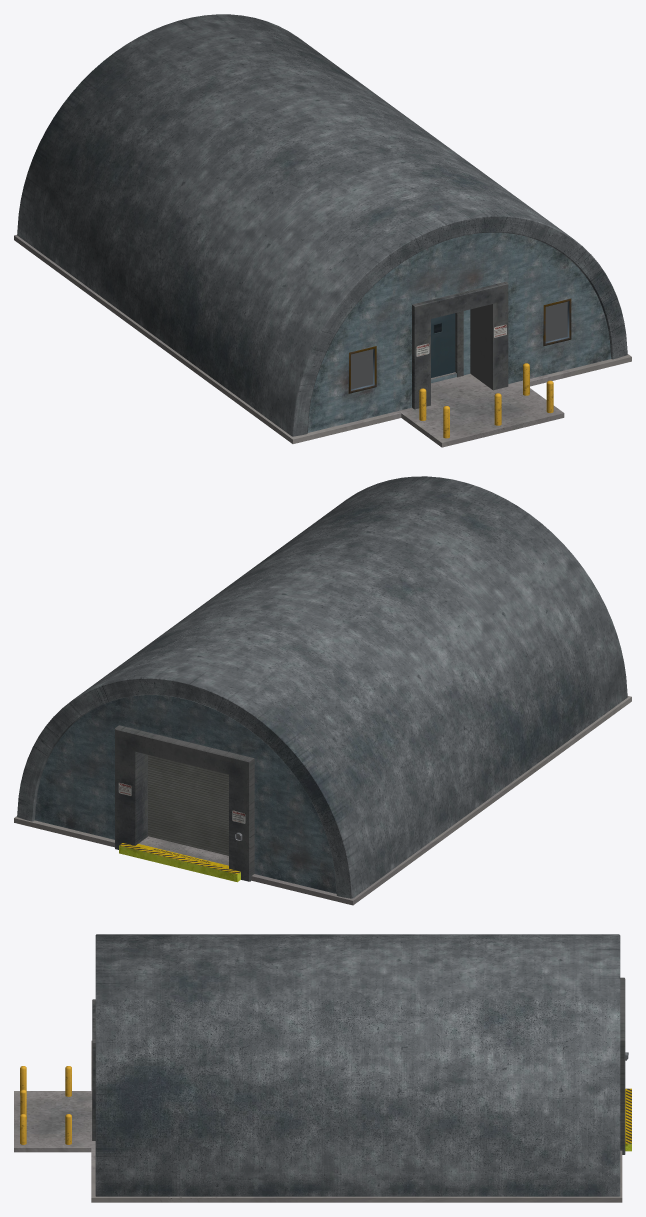
File: base_hut.glb
The picture shows the model from 3 angles, top to bottom: view 1: azimuth 30°, elevation 25°; view 2: azimuth 150°, elevation 25°; view 3: azimuth 270°, elevation 25°; orthographic projection. The views are drawn at different scales.
Visible parts, largest first — view 1: base_hut; view 2: base_hut; view 3: base_hut.
Boxes of the visible parts, x1,y1,x2,y2 form: base_hut: (14,14,631,447); base_hut: (14,476,631,905); base_hut: (14,934,631,1202).
Bounding box in the file's own units: 11.75 × 5.99 × 19.49.
16 materials, 16 textured.
